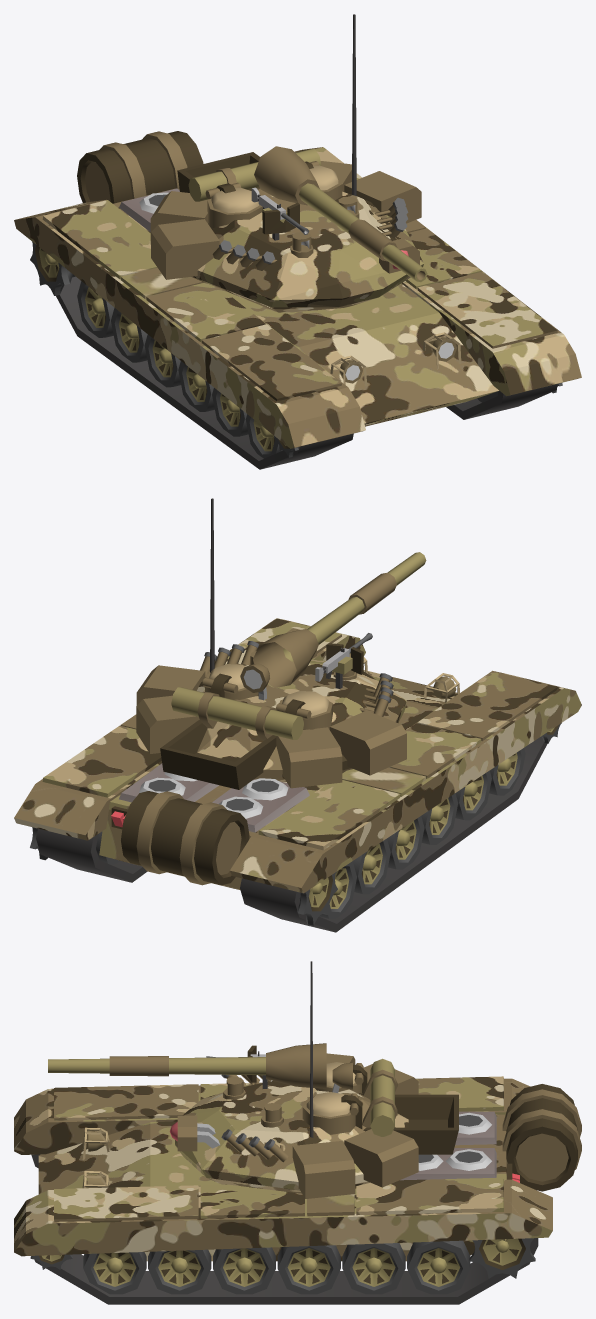
File: 20240304_144844_car4.glb
3 renders of one model, top to bottom at view 1: azimuth 30°, elevation 25°; view 2: azimuth 150°, elevation 25°; view 3: azimuth 270°, elevation 25°, orthographic. The views are drawn at different scales.
Parts seen in each view (by area): view 1: tank_001, tank_tower_001, tank_gun_001; view 2: tank_001, tank_tower_001, tank_gun_001; view 3: tank_001, tank_tower_001, tank_gun_001.
Boxes of the visible parts, x1,y1,x2,y2 form: tank_001: [14, 131, 581, 469]; tank_tower_001: [150, 14, 423, 312]; tank_gun_001: [254, 146, 427, 282]; tank_001: [14, 618, 581, 932]; tank_tower_001: [136, 498, 406, 789]; tank_gun_001: [253, 552, 426, 687]; tank_001: [14, 1076, 581, 1304]; tank_tower_001: [169, 961, 458, 1198]; tank_gun_001: [48, 1043, 326, 1088].
Size of the model in its own units: 2.39 by 2.61 by 4.25.
2 materials, 2 textured.
